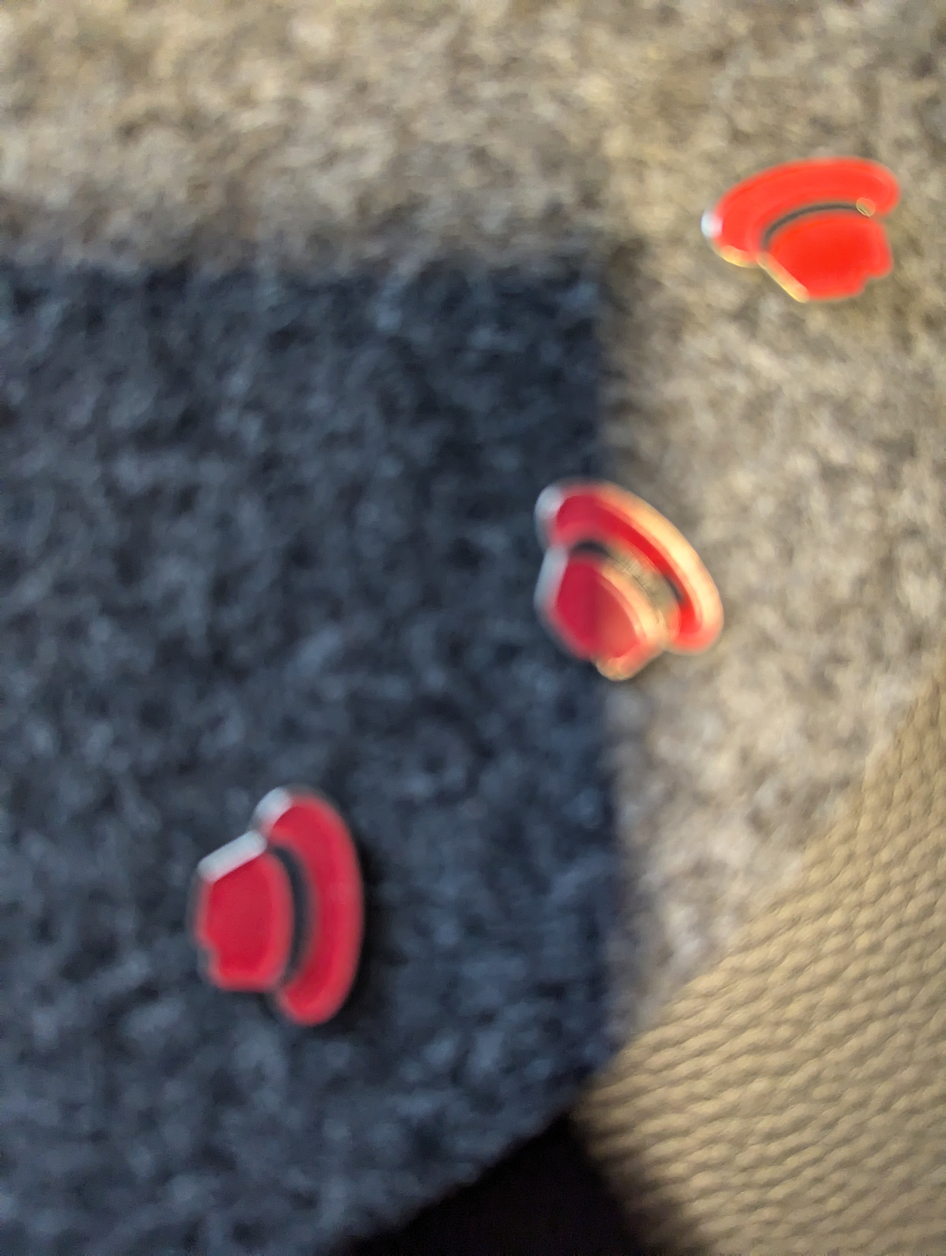Red-Hat: (172, 763, 402, 1052), (506, 456, 748, 715), (676, 133, 937, 320)
Scratch: (644, 556, 696, 619)
